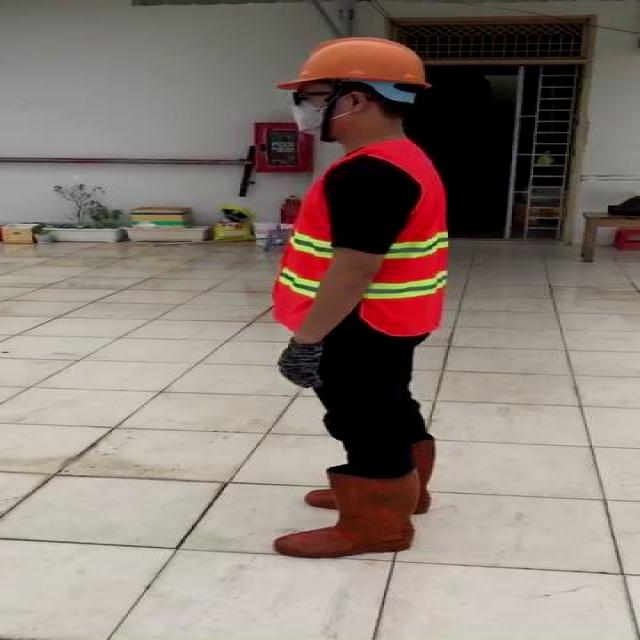boots: (268, 471, 426, 557)
face_mask: (276, 86, 366, 138)
hand_glove: (272, 340, 332, 387)
head_helmet: (271, 34, 433, 90)
person: (233, 30, 460, 570)
vest: (254, 141, 452, 336)
